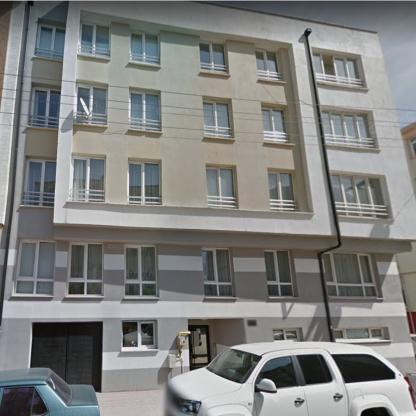door: (31, 322, 102, 392), (188, 324, 210, 370)
window: (331, 173, 390, 218), (321, 252, 378, 297), (14, 240, 56, 296), (321, 110, 373, 148), (313, 50, 364, 88), (68, 243, 103, 297), (124, 244, 158, 297), (71, 155, 105, 202), (23, 158, 56, 206), (202, 248, 232, 296), (74, 82, 107, 125), (264, 250, 294, 297), (129, 161, 160, 204), (30, 86, 61, 127), (129, 90, 159, 132), (78, 20, 110, 58), (268, 171, 298, 211), (206, 166, 235, 207), (35, 23, 65, 60), (130, 29, 160, 65), (261, 106, 290, 143), (204, 100, 232, 138), (122, 320, 157, 350), (200, 41, 226, 73), (256, 48, 282, 80), (334, 326, 386, 340), (273, 328, 301, 341), (408, 136, 416, 157)
